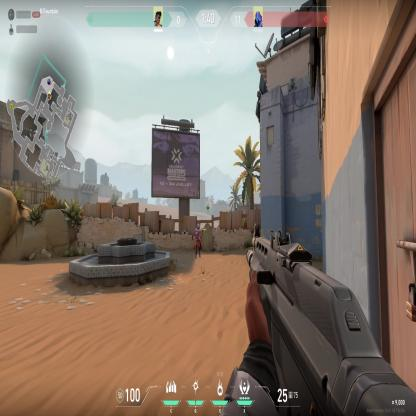enemy: (194, 222, 204, 259)
